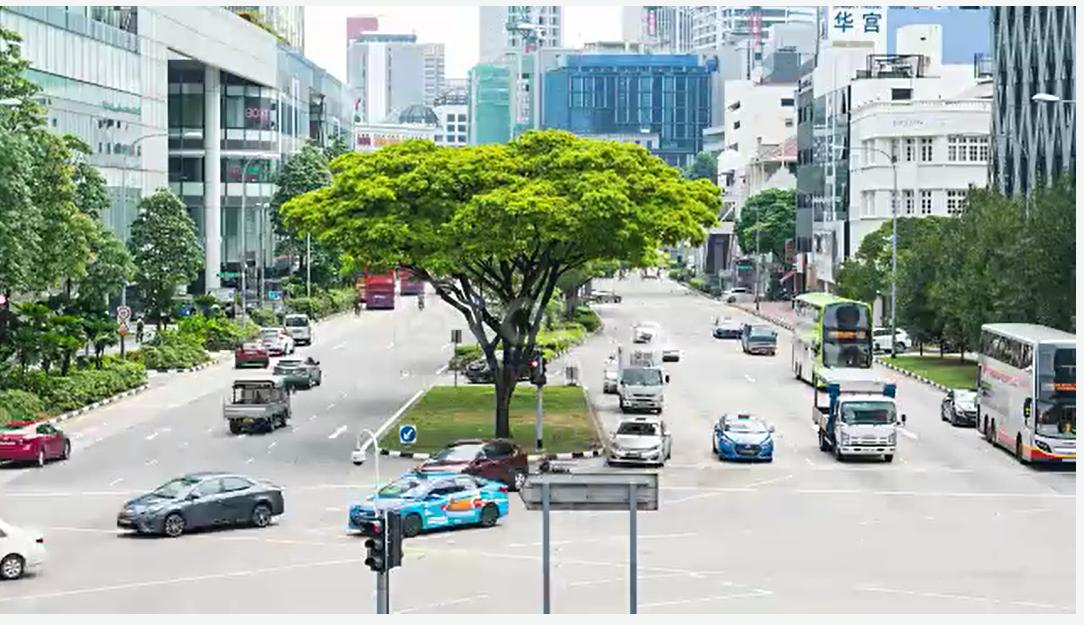bus: (974, 302, 1080, 489), (784, 282, 873, 392)
car: (102, 467, 312, 548), (348, 467, 527, 541), (404, 425, 545, 495), (2, 399, 85, 477), (702, 408, 781, 476), (441, 342, 539, 394), (598, 412, 675, 476), (264, 353, 338, 390), (937, 385, 975, 438), (738, 318, 779, 356), (705, 308, 747, 345), (262, 319, 301, 358), (224, 340, 273, 371), (283, 310, 315, 349), (629, 314, 661, 350)
truck: (803, 357, 906, 484), (205, 360, 316, 442), (610, 337, 676, 422)
